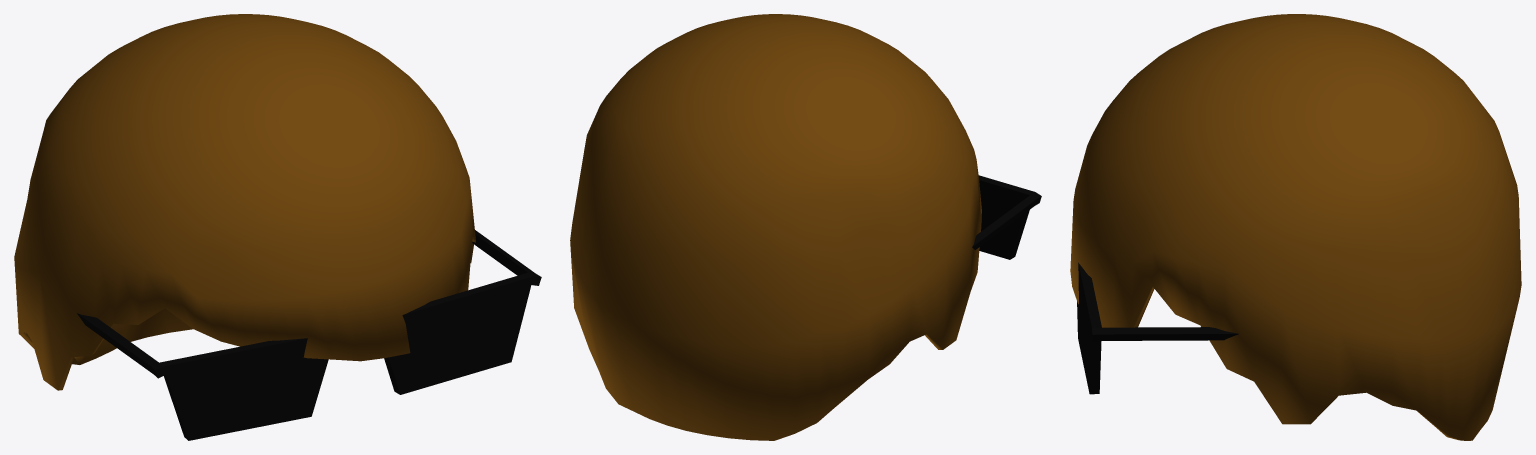
Rendered from pelo.fbx.
3 renders of one model, left to right at view 1: azimuth 30°, elevation 25°; view 2: azimuth 150°, elevation 25°; view 3: azimuth 270°, elevation 25°, orthographic. The views are drawn at different scales.
Parts seen in each view (by area): view 1: Sphere, Cube, Cube.001; view 2: Sphere, Cube; view 3: Sphere, Cube.001.
Boxes of the visible parts, bbox=[...] form: Sphere: bbox=[14, 14, 475, 390]; Cube: bbox=[77, 313, 328, 440]; Cube.001: bbox=[384, 230, 541, 394]; Sphere: bbox=[570, 14, 981, 440]; Cube: bbox=[972, 175, 1041, 259]; Sphere: bbox=[1070, 14, 1521, 440]; Cube.001: bbox=[1077, 262, 1238, 394].
Size of the model in its own units: 40.82 by 36.42 by 41.03.
